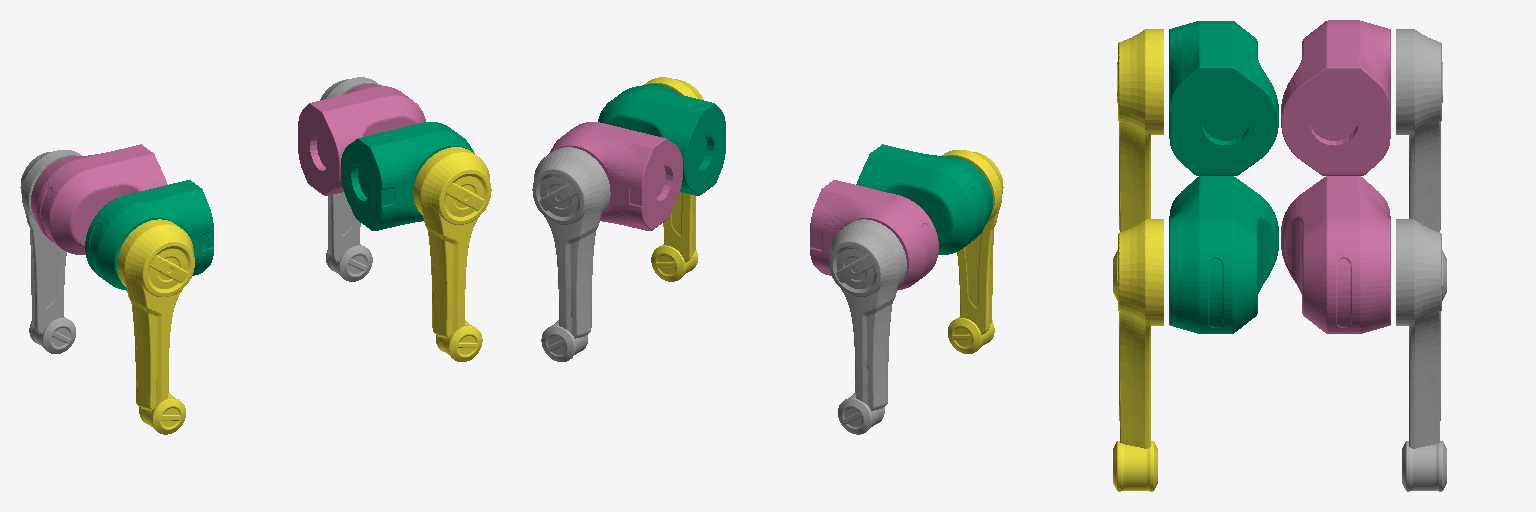
The robot description file, URDF, robot "blank_panther":
<?xml version="1.0" ?>
<robot name="blank_panther"
    xmlns:xacro="http://ros.org/wiki/xacro">

    <material name="Transparent">
        <color rgba="1,1,1,0.5"/>
    </material>

    <link name="body">
        <visual>
            <geometry>
                <mesh filename="meshes/bp3_dae/BP5_BODY2.dae"/>
                <material name="Transparent"/>
            </geometry>
            <origin rpy="0.0 0.0 0.0" xyz="0.0 0.0 0.0"/>
        </visual>
        <inertial>
            <mass value="3.72"/>
            <!-- <mass value="8.3"/> -->
            <origin xyz="0.0 0.0 -0.003"/>
            <inertia ixx="0.016269" ixy="0" ixz="0" iyy="0.050813" iyz="0" izz="0.060989"/>
        </inertial>
        <collision>
            <origin rpy="0 0 0" xyz="0 0 0"/>
            <geometry>
                <box size="0.3 0.2 0.1"/>
            </geometry>
        </collision>
    </link>

    <link name="dummy_mass">
        <inertial>
            <!--mass value="2.955"/-->
            <mass value="0"/>
            <!-- <mass value="8.3"/> -->
            <origin xyz="0.0 0.0 -0.003"/>
            <!--inertia ixx="0.013355" ixy="0" ixz="0" iyy="0.040234" iyz="0" izz="0.048945"/-->
            <inertia ixx="0.0" ixy="0" ixz="0" iyy="0.0" iyz="0" izz="0.0"/>
        </inertial>
    </link>

    <joint name="mass2body" type="fixed">
        <origin xyz="0 0 0" rpy="0 0 0"/>
        <parent link="body"/>
        <child link="dummy_mass"/>
    </joint>

    <!--!!!!!!!!!!!!!!!!!!!! Front Right Leg !!!!!!!!!!!!!!!!!!!!-->

    <joint name="torso_to_abduct_fr_j" type="continuous">
        <axis xyz="1 0 0"/>
        <origin rpy="0 0 0" xyz="0.212 -0.051 0.0"/>
        <parent link="body"/>
        <child link="abduct_fr"/>
        <limit effort="18" lower="-6.28" upper="6.28" velocity="40"/>
        <dynamics damping="0.01" rotor_inertia="0.003708"/>
        <!--        <dynamics damping="0.01" rotor_inertia="0.0"/>-->
    </joint>

    <link name="abduct_fr">
        <inertial>
            <mass value="0.54"/>
            <origin xyz="0.058 -0.00485 0."/>
            <inertia ixx="0.000391" ixy="0.000000" ixz="0.000000" iyy="0.000739" iyz="0.000000" izz="0.000488"/>
        </inertial>
        <visual>
            <geometry>
                <!--mesh filename="meshes/bp_abad_fr.obj"/-->
                <!--mesh filename="meshes/bp_abad2.dae"/-->
                <mesh filename="meshes/bp3_dae/BP3_ABAD_R.dae"/>
            </geometry>
            <!--origin rpy="3.1415926 0 0" xyz="-0.063 0.0 0.0"/-->
            <origin rpy="0 0 0" xyz="-0.092 0.0 0.0"/>

        </visual>
    </link>

    <joint name="abduct_fr_to_thigh_fr_j" type="continuous">
        <axis xyz="0 -1 0"/>
        <origin rpy="0.0 0.0 0.0" xyz="0.0 -0.085 0.00"/>
        <parent link="abduct_fr"/>
        <child link="thigh_fr"/>
        <limit effort="18" lower="-6.28" upper="6.28" velocity="40"/>
        <dynamics damping="0.01" rotor_inertia="0.003708"/>
        <!--        <dynamics damping="0.01" rotor_inertia="0.0"/>-->
    </joint>

    <link name="thigh_fr">
        <inertial>
            <mass value="0.636"/>
            <origin xyz="0.0 0.019 -0.01865"/>
            <inertia ixx="0.001724" ixy="0.0" ixz="0.0" iyy="0.001907" iyz="0.000228" izz="0.000468"/>
        </inertial>
        <visual>
            <geometry>
                <!--mesh filename="meshes/bp_upper_fr.obj"/-->
                <!--mesh filename="meshes/bp_upper_r.dae"/-->
                <mesh filename="meshes/bp3_dae/BP3_UPPER_R.dae"/>
            </geometry>
            <origin rpy="0.0 0.0 0.0" xyz="0.0 0.0 0.0"/>
        </visual>
    </link>

    <joint name="thigh_fr_to_knee_fr_j" type="continuous">
        <axis xyz="0 -1 0"/>
        <origin rpy="0.0 0 0.0" xyz="0.0 0.0 -0.201"/>
        <parent link="thigh_fr"/>
        <child link="shank_fr"/>
        <limit effort="27" lower="-6.28" upper="6.28" velocity="27"/>
        <dynamics damping="0.01" rotor_inertia="0.008966"/>
        <!--        <dynamics damping="0.01" rotor_inertia="0.0"/>-->
    </joint>

    <link name="shank_fr">
        <inertial>
            <mass value="0.064"/>
            <origin xyz="0.0 0.0 -0.0865"/>
            <inertia ixx="0.000716" ixy="0" ixz="0.0" iyy="0.000721" iyz="0" izz="0.000012"/>
        </inertial>
        <visual>
            <geometry>
                <!--mesh filename="meshes/bp_lower.obj"/-->
                <!--mesh filename="meshes/bp_lower.dae"/-->
                <mesh filename="meshes/bp3_dae/BP3_LOWER.dae"/>
            </geometry>
            <origin rpy="0.0 0 0.0" xyz="0.0 0.0 0.0"/>
        </visual>
    </link>

    <link name="toe_fr">
        <contact>
            <friction_anchor/>
            <stiffness value="30000.0"/>
            <damping value="1000.0"/>
            <spinning_friction value="0.3"/>
            <lateral_friction value="3.0"/>
        </contact>
        <!--        <visual>-->
        <!--            <origin rpy="0 0 0" xyz="0 0 0"/>-->
        <!--            <geometry>-->
        <!--                <sphere radius="0.0275"/>-->
        <!--            </geometry>-->
        <!--            <material name="darkgray"/>-->
        <!--        </visual>-->
        <collision>
            <origin rpy="0 0 0" xyz="0 0 0"/>
            <geometry>
                <sphere radius="0.0275"/>
                <!--                                <sphere radius="0.001"/>-->
            </geometry>
        </collision>
        <inertial>
            <mass value="0.05"/>
            <!--            <mass value="0.005"/>-->
            <inertia ixx="0.000025" ixy="0" ixz="0" iyy="0.000025" iyz="0" izz="0.000025"/>
        </inertial>
    </link>

    <joint name="toe_fr_joint" type="fixed">
        <parent link="shank_fr"/>
        <child link="toe_fr"/>
        <origin xyz="0 0 -0.19"/>
        <!--                <origin xyz="0 0 -0.2175"/>-->
        <dynamics damping="0.0" friction="0.0"/>
    </joint>

    <!--!!!!!!!!!!!!!!!!!!!! Front Left Leg !!!!!!!!!!!!!!!!!!!!-->

    <joint name="torso_to_abduct_fl_j" type="continuous">
        <axis xyz="1 0 0"/>
        <origin rpy="0 0 0" xyz="0.212 0.051 0.0"/>
        <parent link="body"/>
        <child link="abduct_fl"/>
        <limit effort="18" lower="-6.28" upper="6.28" velocity="40"/>
        <dynamics damping="0.01" rotor_inertia="0.003708"/>
        <!--        <dynamics damping="0.01" rotor_inertia="0.0"/>-->
    </joint>

    <link name="abduct_fl">
        <inertial>
            <mass value="0.54"/>
            <origin xyz="0.058 0.00485 0."/>
            <inertia ixx="0.000391" ixy="0.000000" ixz="0.000000" iyy="0.000739" iyz="0.000000" izz="0.000488"/>
        </inertial>
        <visual>
            <geometry>
                <!--mesh filename="meshes/bp_abad_fl.obj"/-->
                <!--mesh filename="meshes/bp_abad2.dae"/-->
                <mesh filename="meshes/bp3_dae/BP3_ABAD_L.dae"/>
            </geometry>
            <!--origin rpy="0 0 0" xyz="-0.063 0.0 0.0"/-->
            <origin rpy="0 0 0" xyz="-0.092 0.0 0.0"/>
        </visual>
    </link>

    <joint name="abduct_fl_to_thigh_fl_j" type="continuous">
        <axis xyz="0 -1 0"/>
        <origin rpy="0.0 0.0 0.0" xyz="0.0 0.085 0.00"/>
        <parent link="abduct_fl"/>
        <child link="thigh_fl"/>
        <limit effort="18" lower="-6.28" upper="6.28" velocity="40"/>
        <dynamics damping="0.01" rotor_inertia="0.003708"/>
        <!--        <dynamics damping="0.01" rotor_inertia="0.0"/>-->
    </joint>

    <link name="thigh_fl">
        <inertial>
            <mass value="0.636"/>
            <origin xyz="0.0 -0.019 -0.01865"/>
            <inertia ixx="0.001724" ixy="0.0" ixz="0.0" iyy="0.001907" iyz="-0.000228" izz="0.000468"/>
        </inertial>
        <visual>
            <geometry>
                <!--mesh filename="meshes/bp_upper_fl.obj"/-->
                <!--mesh filename="meshes/bp_upper_l.dae"/-->
                <mesh filename="meshes/bp3_dae/BP3_UPPER_L.dae"/>
            </geometry>
            <origin rpy="0.0 0.0 0.0" xyz="0.0 0.0 0.0"/>
        </visual>
    </link>

    <joint name="thigh_fl_to_knee_fl_j" type="continuous">
        <axis xyz="0 -1 0"/>
        <origin rpy="0.0 0 0.0" xyz="0.0 0.0 -0.201"/>
        <parent link="thigh_fl"/>
        <child link="shank_fl"/>
        <limit effort="27" lower="-6.28" upper="6.28" velocity="27"/>
        <dynamics damping="0.01" rotor_inertia="0.008966"/>
        <!--        <dynamics damping="0.01" rotor_inertia="0.0"/>-->
    </joint>

    <link name="shank_fl">
        <inertial>
            <mass value="0.064"/>
            <origin xyz="0.0 0.0 -0.0865"/>
            <inertia ixx="0.000716" ixy="0" ixz="0.0" iyy="0.000721" iyz="0" izz="0.000012"/>
        </inertial>
        <visual>
            <geometry>
                <!--                <mesh filename="meshes/bp_lower.obj"/>-->
                <!--mesh filename="meshes/bp_lower.dae"/-->
                <mesh filename="meshes/bp3_dae/BP3_LOWER.dae"/>
            </geometry>
            <origin rpy="0.0 0 0.0" xyz="0.0 0.0 0.0"/>
        </visual>
    </link>

    <link name="toe_fl">
        <contact>
            <friction_anchor/>
            <stiffness value="30000.0"/>
            <damping value="1000.0"/>
            <spinning_friction value="0.3"/>
            <lateral_friction value="3.0"/>
        </contact>
        <!--        <visual>-->
        <!--            <origin rpy="0 0 0" xyz="0 0 0"/>-->
        <!--            <geometry>-->
        <!--                <sphere radius="0.0275"/>-->
        <!--            </geometry>-->
        <!--            <material name="darkgray"/>-->
        <!--        </visual>-->
        <collision>
            <origin rpy="0 0 0" xyz="0 0 0"/>
            <geometry>
                <sphere radius="0.0275"/>
                <!--                                <sphere radius="0.001"/>-->
            </geometry>
        </collision>
        <inertial>
            <mass value="0.05"/>
            <!--            <mass value="0.005"/>-->
            <inertia ixx="0.000025" ixy="0" ixz="0" iyy="0.000025" iyz="0" izz="0.000025"/>
        </inertial>
    </link>

    <joint name="toe_fl_joint" type="fixed">
        <parent link="shank_fl"/>
        <child link="toe_fl"/>
        <origin xyz="0 0 -0.19"/>
        <!--                <origin xyz="0 0 -0.2175"/>-->
        <dynamics damping="0.0"/>
    </joint>

    <!--!!!!!!!!!!!!!!!!!!!! Hind Right Leg !!!!!!!!!!!!!!!!!!!!-->

    <joint name="torso_to_abduct_hr_j" type="continuous">
        <axis xyz="1 0 0"/>
        <origin rpy="0 0 0" xyz="-0.212 -0.051 0.0"/>
        <parent link="body"/>
        <child link="abduct_hr"/>
        <limit effort="18" lower="-6.28" upper="6.28" velocity="40"/>
        <dynamics damping="0.01" rotor_inertia="0.003708"/>
        <!--        <dynamics damping="0.01" rotor_inertia="0.0"/>-->
    </joint>

    <link name="abduct_hr">
        <inertial>
            <mass value="0.54"/>
            <origin xyz="-0.058 -0.00485 0."/>
            <inertia ixx="0.000391" ixy="0.000000" ixz="0.000000" iyy="0.000739" iyz="0.000000" izz="0.000488"/>
        </inertial>
        <visual>
            <geometry>
                <!--mesh filename="meshes/bp_abad_rr.obj"/-->
                <!--mesh filename="meshes/bp_abad2.dae"/-->
                <mesh filename="meshes/bp3_dae/BP3_ABAD_L.dae"/>
            </geometry>
            <origin rpy="0 0 3.1415926" xyz="0.092 0.0 0.0"/>
        </visual>
    </link>

    <joint name="abduct_hr_to_thigh_hr_j" type="continuous">
        <axis xyz="0 -1 0"/>
        <origin rpy="0.0 0.0 0.0" xyz="0.0 -0.085 0.00"/>
        <parent link="abduct_hr"/>
        <child link="thigh_hr"/>
        <limit effort="18" lower="-6.28" upper="6.28" velocity="40"/>
        <dynamics damping="0.01" rotor_inertia="0.003708"/>
        <!--        <dynamics damping="0.01" rotor_inertia="0.0"/>-->
    </joint>

    <link name="thigh_hr">
        <inertial>
            <mass value="0.636"/>
            <origin xyz="0.0 0.019 -0.01865"/>
            <inertia ixx="0.001724" ixy="0.0" ixz="0.0" iyy="0.001907" iyz="0.000228" izz="0.000468"/>
        </inertial>
        <visual>
            <geometry>
                <!--mesh filename="meshes/bp_upper_fr.obj"/-->
                <!--mesh filename="meshes/bp_upper_r.dae"/-->
                <mesh filename="meshes/bp3_dae/BP3_UPPER_R.dae"/>
            </geometry>
            <origin rpy="0.0 0.0 0.0" xyz="0.0 0.0 0.0"/>
        </visual>
    </link>

    <joint name="thigh_hr_to_knee_hr_j" type="continuous">
        <axis xyz="0 -1 0"/>
        <origin rpy="0.0 0 0.0" xyz="0.0 0.0 -0.201"/>
        <parent link="thigh_hr"/>
        <child link="shank_hr"/>
        <limit effort="27" lower="-6.28" upper="6.28" velocity="27"/>
        <dynamics damping="0.01" rotor_inertia="0.008966"/>
        <!--        <dynamics damping="0.01" rotor_inertia="0.0"/>-->
    </joint>

    <link name="shank_hr">
        <inertial>
            <mass value="0.064"/>
            <origin xyz="0.0 0.0 -0.0865"/>
            <inertia ixx="0.000716" ixy="0" ixz="0.0" iyy="0.000721" iyz="0" izz="0.000012"/>
        </inertial>
        <visual>
            <geometry>
                <!--                <mesh filename="meshes/bp_lower.obj"/>-->
                <!--mesh filename="meshes/bp_lower.dae"/-->
                <mesh filename="meshes/bp3_dae/BP3_LOWER.dae"/>
            </geometry>
            <origin rpy="0.0 0 0.0" xyz="0.0 0.0 0.0"/>
        </visual>
    </link>

    <link name="toe_hr">
        <contact>
            <friction_anchor/>
            <stiffness value="30000.0"/>
            <damping value="1000.0"/>
            <spinning_friction value="0.3"/>
            <lateral_friction value="3.0"/>
        </contact>
        <!--        <visual>-->
        <!--            <origin rpy="0 0 0" xyz="0 0 0"/>-->
        <!--            <geometry>-->
        <!--                <sphere radius="0.0275"/>-->
        <!--            </geometry>-->
        <!--            <material name="darkgray"/>-->
        <!--        </visual>-->
        <collision>
            <origin rpy="0 0 0" xyz="0 0 0"/>
            <geometry>
                <sphere radius="0.0275"/>
                <!--                                <sphere radius="0.001"/>-->
            </geometry>
        </collision>
        <inertial>
            <mass value="0.05"/>
            <!--            <mass value="0.005"/>-->
            <inertia ixx="0.000025" ixy="0" ixz="0" iyy="0.000025" iyz="0" izz="0.000025"/>
        </inertial>
    </link>

    <joint name="toe_hr_joint" type="fixed">
        <parent link="shank_hr"/>
        <child link="toe_hr"/>
        <origin xyz="0 0 -0.19"/>
        <!--                <origin xyz="0 0 -0.2175"/>-->
        <dynamics damping="0.0"/>
    </joint>

    <!--!!!!!!!!!!!!!!!!!!!! Hind Left Leg !!!!!!!!!!!!!!!!!!!!-->

    <joint name="torso_to_abduct_hl_j" type="continuous">
        <axis xyz="1 0 0"/>
        <origin rpy="0 0 0" xyz="-0.212 0.051 0.0"/>
        <parent link="body"/>
        <child link="abduct_hl"/>
        <limit effort="18" lower="-6.28" upper="6.28" velocity="40"/>
        <dynamics damping="0.01" rotor_inertia="0.003708"/>
        <!--        <dynamics damping="0.01" rotor_inertia="0.0"/>-->
    </joint>

    <link name="abduct_hl">
        <inertial>
            <mass value="0.54"/>
            <origin xyz="-0.058 0.00485 0."/>
            <inertia ixx="0.000391" ixy="0.000000" ixz="0.000000" iyy="0.000739" iyz="0.000000" izz="0.000488"/>
        </inertial>
        <visual>
            <geometry>
                <!--mesh filename="meshes/bp_abad_rl.obj"/-->
                <!--mesh filename="meshes/bp_abad2.dae"/-->
                <mesh filename="meshes/bp3_dae/BP3_ABAD_R.dae"/>
            </geometry>
            <origin rpy="0 0 3.1415926" xyz="0.092 0.0 0.0"/>
        </visual>
    </link>

    <joint name="abduct_hl_to_thigh_hl_j" type="continuous">
        <axis xyz="0 -1 0"/>
        <origin rpy="0.0 0.0 0.0" xyz="0.0 0.085 0.00"/>
        <parent link="abduct_hl"/>
        <child link="thigh_hl"/>
        <limit effort="18" lower="-6.28" upper="6.28" velocity="40"/>
        <dynamics damping="0.01" rotor_inertia="0.003708"/>
        <!--        <dynamics damping="0.01" rotor_inertia="0.0"/>-->
    </joint>

    <link name="thigh_hl">
        <inertial>
            <mass value="0.636"/>
            <origin xyz="0.0 -0.019 -0.01865"/>
            <inertia ixx="0.001724" ixy="0.0" ixz="0.0" iyy="0.001907" iyz="-0.000228" izz="0.000468"/>
        </inertial>
        <visual>
            <geometry>
                <!--mesh filename="meshes/bp_upper_fl.obj"/-->
                <!--mesh filename="meshes/bp_upper_l.dae"/-->
                <mesh filename="meshes/bp3_dae/BP3_UPPER_L.dae"/>
            </geometry>
            <origin rpy="0.0 0.0 0.0" xyz="0.0 0.0 0.0"/>
        </visual>
    </link>

    <joint name="thigh_hl_to_knee_hl_j" type="continuous">
        <axis xyz="0 -1 0"/>
        <origin rpy="0.0 0 0.0" xyz="0.0 0.0 -0.201"/>
        <parent link="thigh_hl"/>
        <child link="shank_hl"/>
        <limit effort="27" lower="-6.28" upper="6.28" velocity="27"/>
        <dynamics damping="0.01" rotor_inertia="0.008966"/>
        <!--        <dynamics damping="0.01" rotor_inertia="0.0"/>-->
    </joint>

    <link name="shank_hl">
        <inertial>
            <mass value="0.064"/>
            <origin xyz="0.0 0.0 -0.0865"/>
            <inertia ixx="0.000716" ixy="0" ixz="0.0" iyy="0.000721" iyz="0" izz="0.000012"/>
        </inertial>
        <visual>
            <geometry>
                <!--                <mesh filename="meshes/bp_lower.obj"/>-->
                <!--mesh filename="meshes/bp_lower.dae"/-->
                <mesh filename="meshes/bp3_dae/BP3_LOWER.dae"/>
            </geometry>
            <origin rpy="0.0 0 0.0" xyz="0.0 0.0 0.0"/>
        </visual>
    </link>

    <link name="toe_hl">
        <contact>
            <friction_anchor/>
            <stiffness value="30000.0"/>
            <damping value="1000.0"/>
            <spinning_friction value="0.3"/>
            <lateral_friction value="3.0"/>
        </contact>
        <!--        <visual>-->
        <!--            <origin rpy="0 0 0" xyz="0 0 0"/>-->
        <!--            <geometry>-->
        <!--                <sphere radius="0.0275"/>-->
        <!--            </geometry>-->
        <!--            <material name="darkgray"/>-->
        <!--        </visual>-->
        <collision>
            <origin rpy="0 0 0" xyz="0 0 0"/>
            <geometry>
                <sphere radius="0.0275"/>
                <!--                                <sphere radius="0.001"/>-->
            </geometry>
        </collision>
        <inertial>
            <mass value="0.05"/>
            <!--            <mass value="0.005"/>-->
            <inertia ixx="0.000025" ixy="0" ixz="0" iyy="0.000025" iyz="0" izz="0.000025"/>
        </inertial>
    </link>

    <joint name="toe_hl_joint" type="fixed">
        <parent link="shank_hl"/>
        <child link="toe_hl"/>
        <origin xyz="0 0 -0.19"/>
        <!--                <origin xyz="0 0 -0.2175"/>-->
        <dynamics damping="0.0"/>
    </joint>

</robot>

--- Render facts (derived) ---
3 views of the same robot in one strip: view 1: azimuth 30°, elevation 25°; view 2: azimuth 150°, elevation 25°; view 3: azimuth 270°, elevation 25° (orthographic).
Robot: blank_panther — 18 links, 17 joints (12 continuous, 5 fixed); root link body; default pose: all joints at 0.
Visible links, largest first — view 1: thigh_hr, thigh_fr, abduct_hl, abduct_fr, abduct_fl, abduct_hr, thigh_hl, thigh_fl; view 2: thigh_hl, thigh_fl, abduct_hr, abduct_fl, abduct_fr, abduct_hl, thigh_hr, thigh_fr; view 3: abduct_fr, abduct_fl, abduct_hl, abduct_hr, thigh_fr, thigh_fl, thigh_hr, thigh_hl.
Boxes of the visible links, x1,y1,x2,y2 form: thigh_hr: (117, 219, 194, 434); thigh_fr: (413, 147, 491, 361); abduct_hl: (31, 144, 167, 254); abduct_fr: (341, 122, 474, 230); abduct_fl: (298, 84, 425, 195); abduct_hr: (85, 180, 213, 290); thigh_hl: (20, 150, 81, 353); thigh_fl: (320, 77, 379, 281); thigh_hl: (829, 219, 906, 434); thigh_fl: (532, 147, 610, 361); abduct_hr: (856, 144, 992, 254); abduct_fl: (549, 122, 682, 230); abduct_fr: (598, 84, 725, 195); abduct_hl: (810, 180, 938, 290); thigh_hr: (942, 150, 1003, 353); thigh_fr: (644, 77, 703, 281); abduct_fr: (1169, 176, 1278, 333); abduct_fl: (1281, 176, 1390, 333); abduct_hl: (1281, 20, 1390, 175); abduct_hr: (1169, 21, 1278, 175); thigh_fr: (1113, 219, 1163, 491); thigh_fl: (1396, 219, 1446, 491); thigh_hr: (1113, 29, 1163, 300); thigh_hl: (1396, 29, 1446, 300).
Bounding box of the posed robot: 0.5402 × 0.314 × 0.2831 m (x, y, z).
8 mesh visuals loaded from 6 distinct referenced files (4 Collada DAE); not drawn: 5 (reference not matched to a file when rendering).
